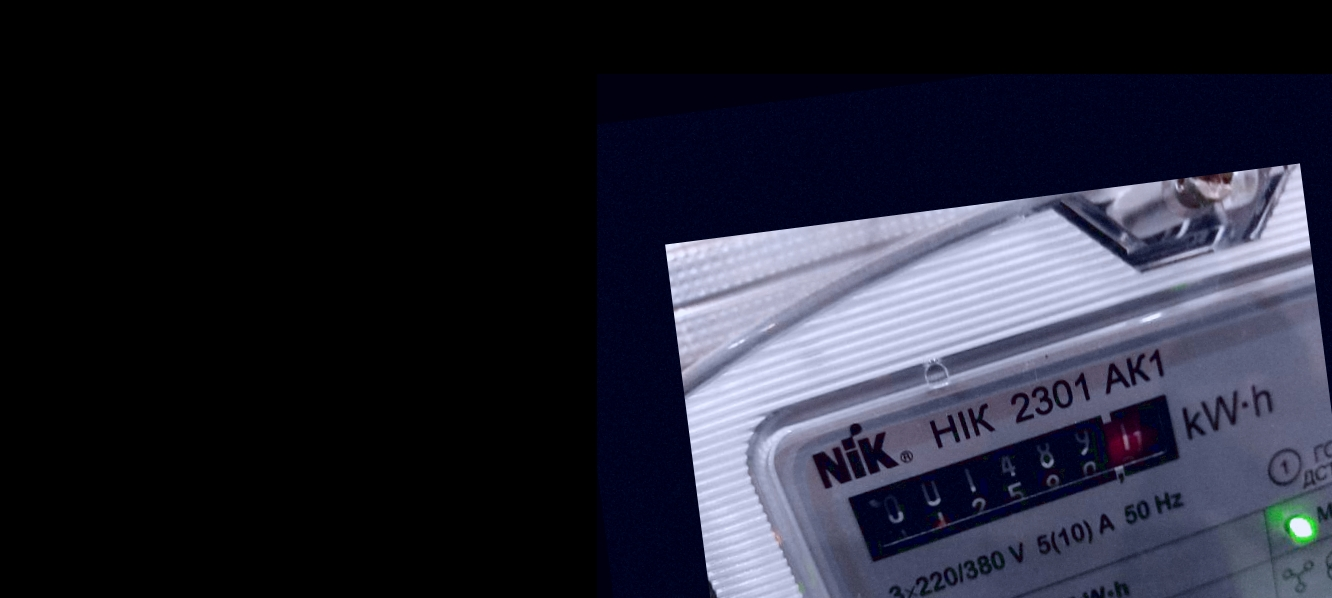0: (915, 472, 945, 511), (879, 490, 907, 528)
1: (1112, 415, 1136, 455), (958, 463, 982, 496)
4: (995, 448, 1020, 481)
8: (1033, 435, 1059, 473)
9: (1071, 424, 1095, 458)
screen: (827, 380, 1218, 577)
